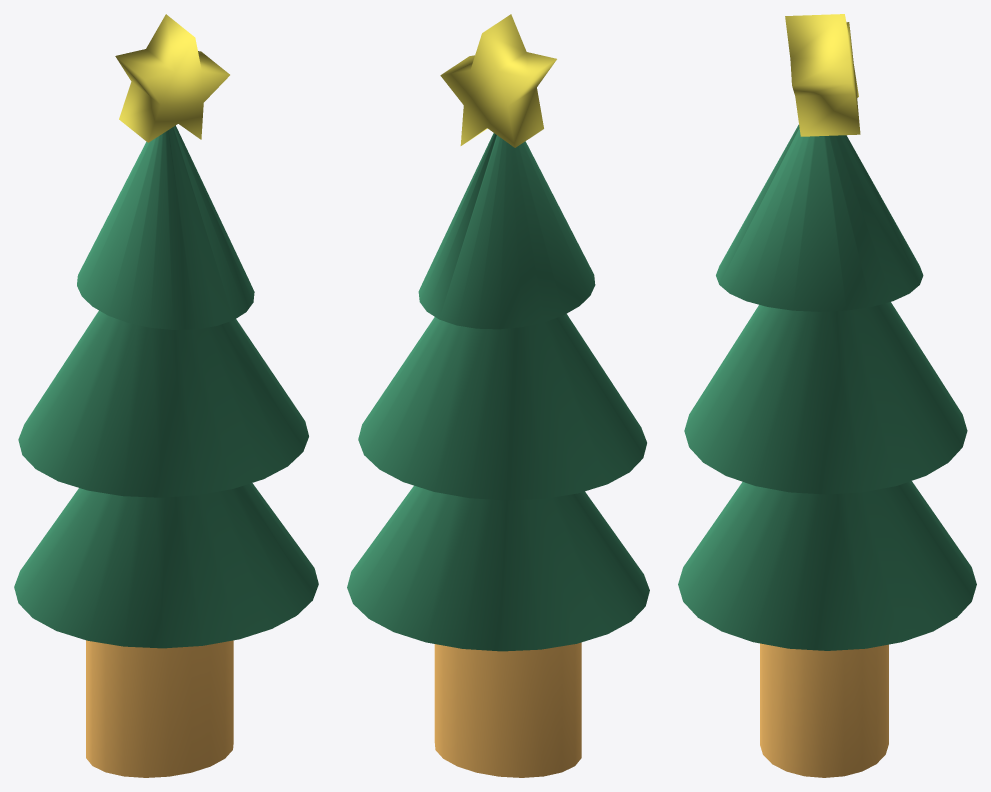
Rendered from tinker.glb.
3 views of the same model, side by side, from view 1: azimuth 30°, elevation 25°; view 2: azimuth 150°, elevation 25°; view 3: azimuth 270°, elevation 25° (orthographic). The views are drawn at different scales.
Visible parts, largest first — view 1: obj_0.001; view 2: obj_0.001; view 3: obj_0.001.
Boxes of the visible parts, left/top/right/bottom form: obj_0.001: left=14, top=14, right=318, bottom=777; obj_0.001: left=347, top=14, right=649, bottom=777; obj_0.001: left=678, top=14, right=976, bottom=777.
Bounding box in the file's own units: 34.01 × 88.03 × 32.3.
